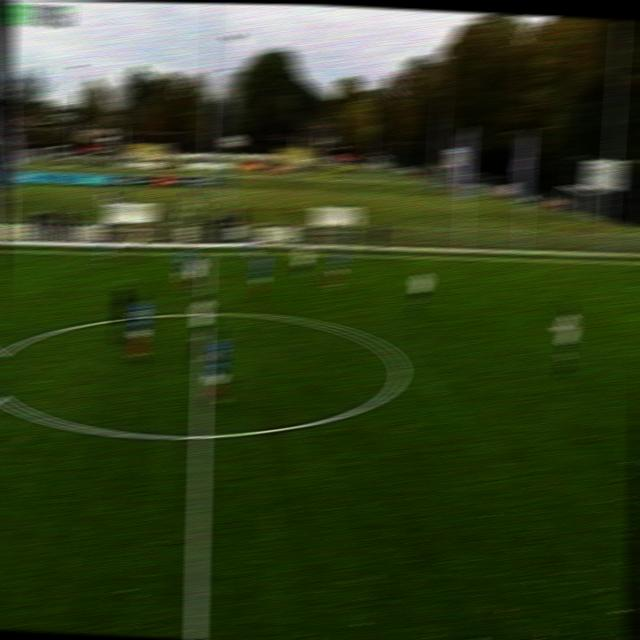bigarea_top_inner: (630, 278, 640, 292)
halfcircle_bottom: (190, 423, 213, 450)
midline_top_intersection: (198, 247, 214, 259)
